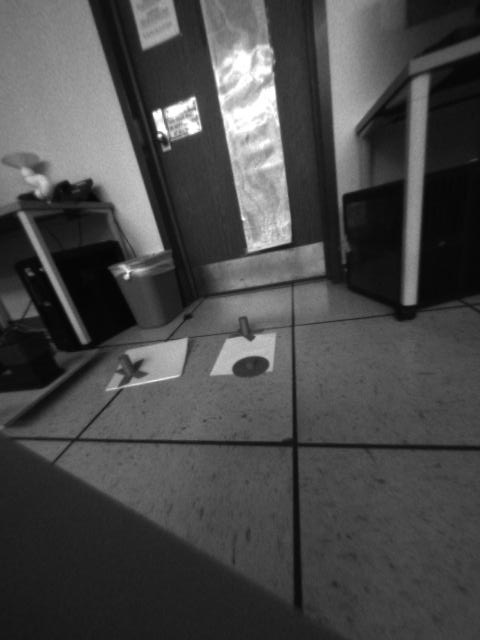X: (109, 350, 145, 384), (225, 315, 262, 342)
